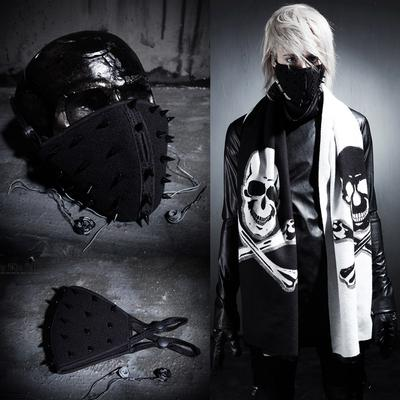OK: (277, 49, 333, 105)
